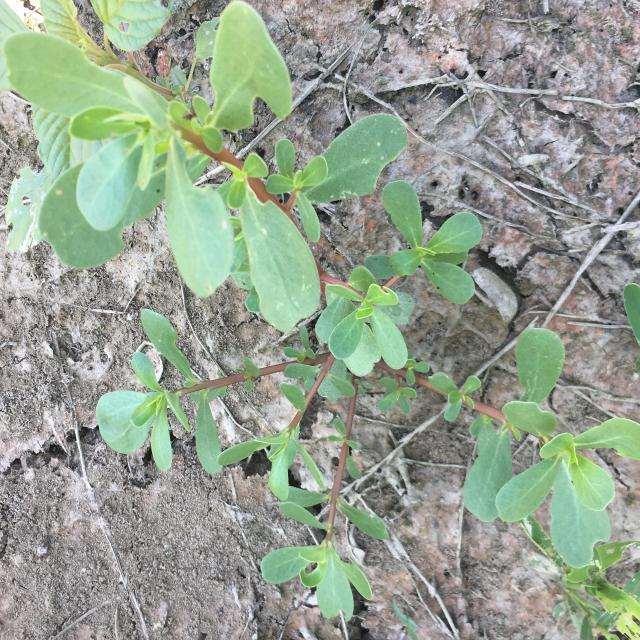Purslane: (3, 1, 640, 622)
